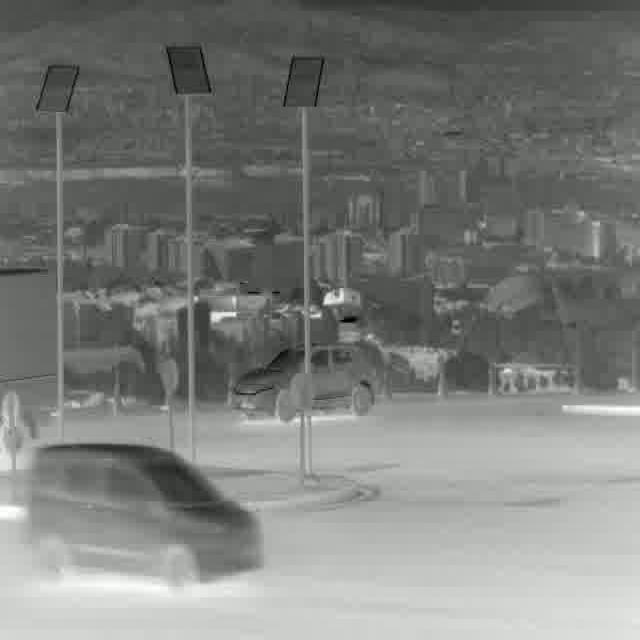Car: (32, 445, 266, 600), (232, 341, 383, 420), (0, 269, 57, 439)
